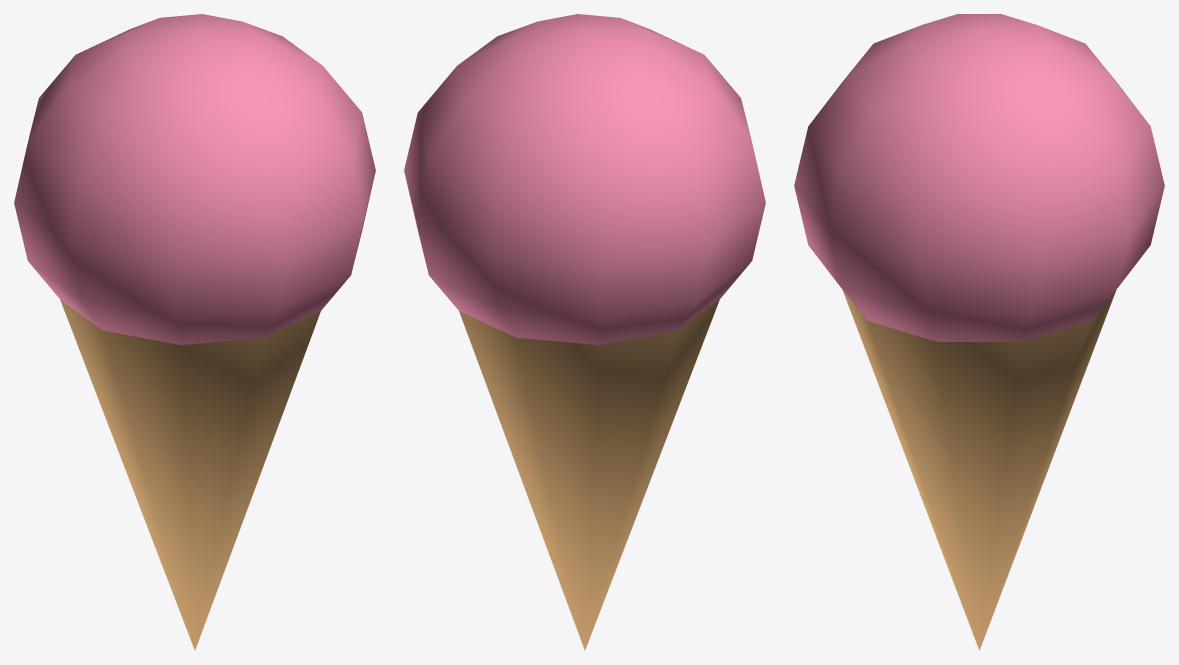
The model's file is rides_cone.glb.
3 renders of one model, left to right at view 1: azimuth 30°, elevation 25°; view 2: azimuth 150°, elevation 25°; view 3: azimuth 270°, elevation 25°, orthographic.
Visible parts, largest first — view 1: RidesCone_body; view 2: RidesCone_body; view 3: RidesCone_body.
Part boxes in pixels (left/top/right/bottom): RidesCone_body: left=14, top=14, right=375, bottom=650; RidesCone_body: left=404, top=14, right=765, bottom=650; RidesCone_body: left=794, top=14, right=1164, bottom=650.
Size of the model in its own units: 0.1236 by 0.24 by 0.13.
